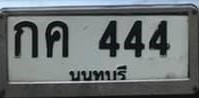txt01: (12, 20, 39, 59)
txt03: (44, 20, 69, 59)
